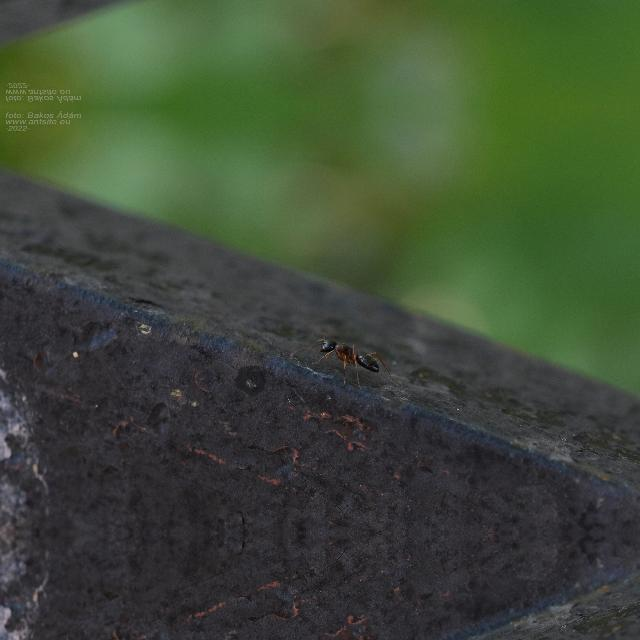Camponotus: (302, 327, 393, 377)
